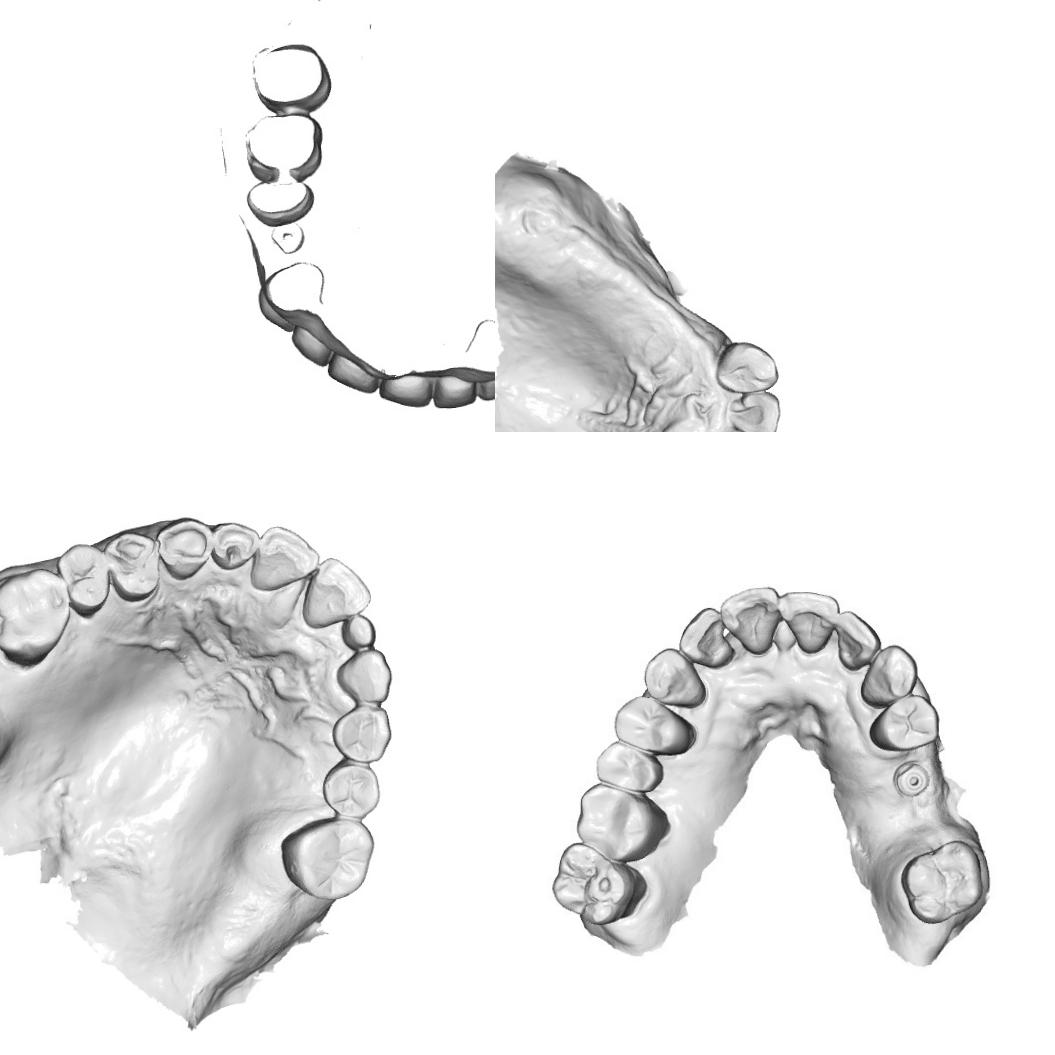canine: (645, 646, 704, 714), (858, 642, 916, 711), (155, 517, 214, 582), (714, 340, 780, 395), (334, 648, 392, 706)
implant: (892, 756, 934, 804)
incisor: (301, 556, 373, 630), (248, 524, 320, 591), (779, 589, 845, 654), (724, 590, 786, 655), (210, 516, 260, 572), (680, 612, 732, 665), (726, 389, 781, 432), (833, 610, 878, 662), (338, 613, 378, 648)
molar: (898, 836, 994, 927), (280, 814, 376, 902), (549, 841, 646, 927), (570, 778, 670, 860), (0, 566, 69, 665)
premolar: (57, 542, 112, 618), (869, 694, 942, 751), (106, 528, 160, 603), (616, 698, 688, 752), (330, 706, 392, 762), (594, 740, 662, 791), (322, 760, 380, 818)
